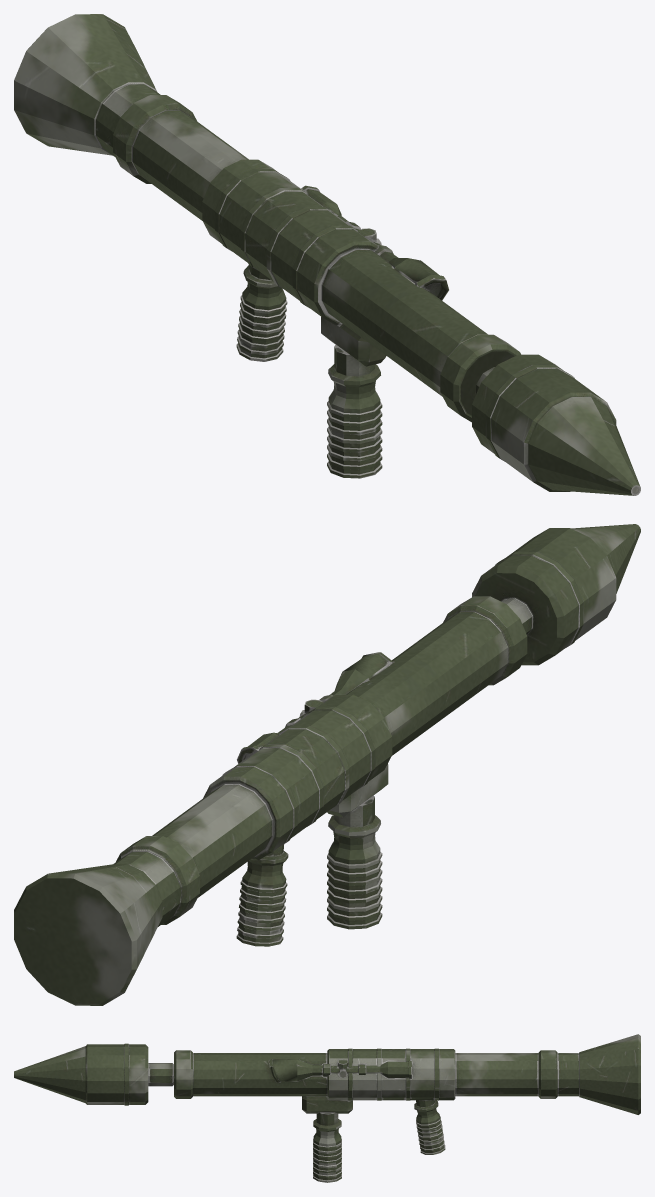
Rendered from rocket_launcher.glb.
3 views of the same model, one above another, from view 1: azimuth 30°, elevation 25°; view 2: azimuth 150°, elevation 25°; view 3: azimuth 270°, elevation 25° (orthographic). The views are drawn at different scales.
Visible parts, largest first — view 1: rocket_launcher; view 2: rocket_launcher; view 3: rocket_launcher.
Boxes of the visible parts, box(x1,y1,x2,y2) form: rocket_launcher: box(14, 14, 640, 495); rocket_launcher: box(14, 524, 640, 1005); rocket_launcher: box(14, 1034, 640, 1182).
Size of the model in its own units: 0.0994 by 0.1925 by 0.788.
Materials: 1 (1 with a texture image).
